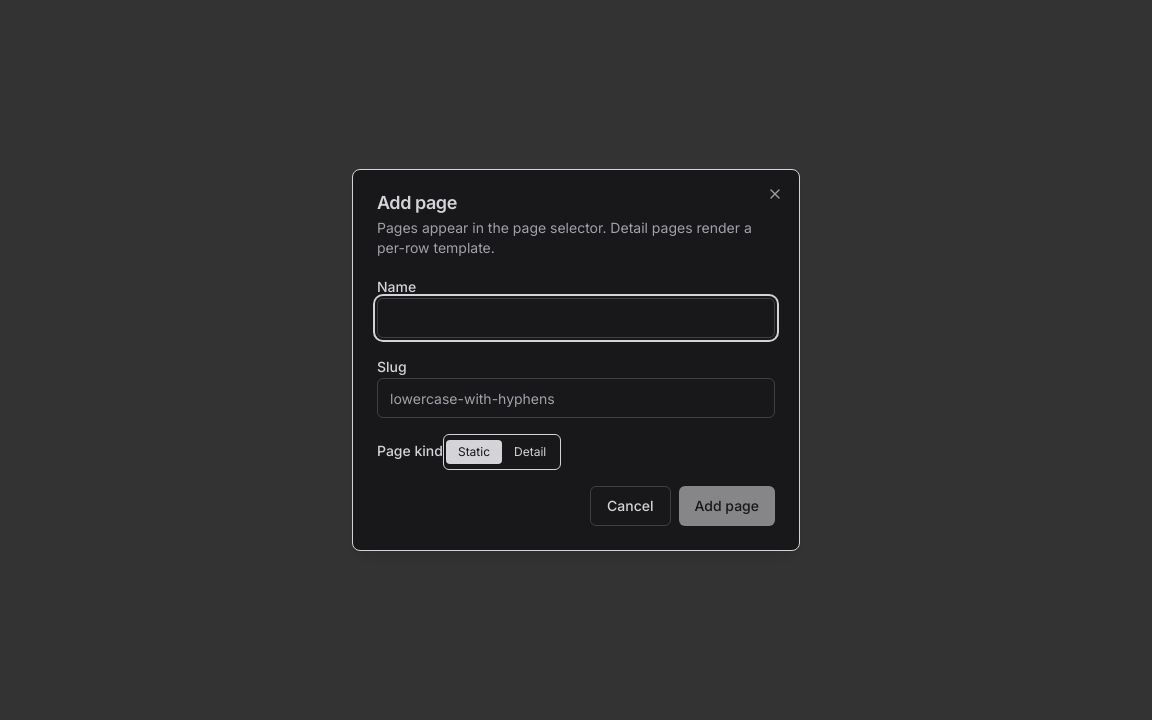
Test case: <AddPageDialog> › allows the U2 same-slug coexistence (static + detail) with no conflict
Click the button with test id "add-page-kind-detail": (530, 452) [502, 440, 558, 464]
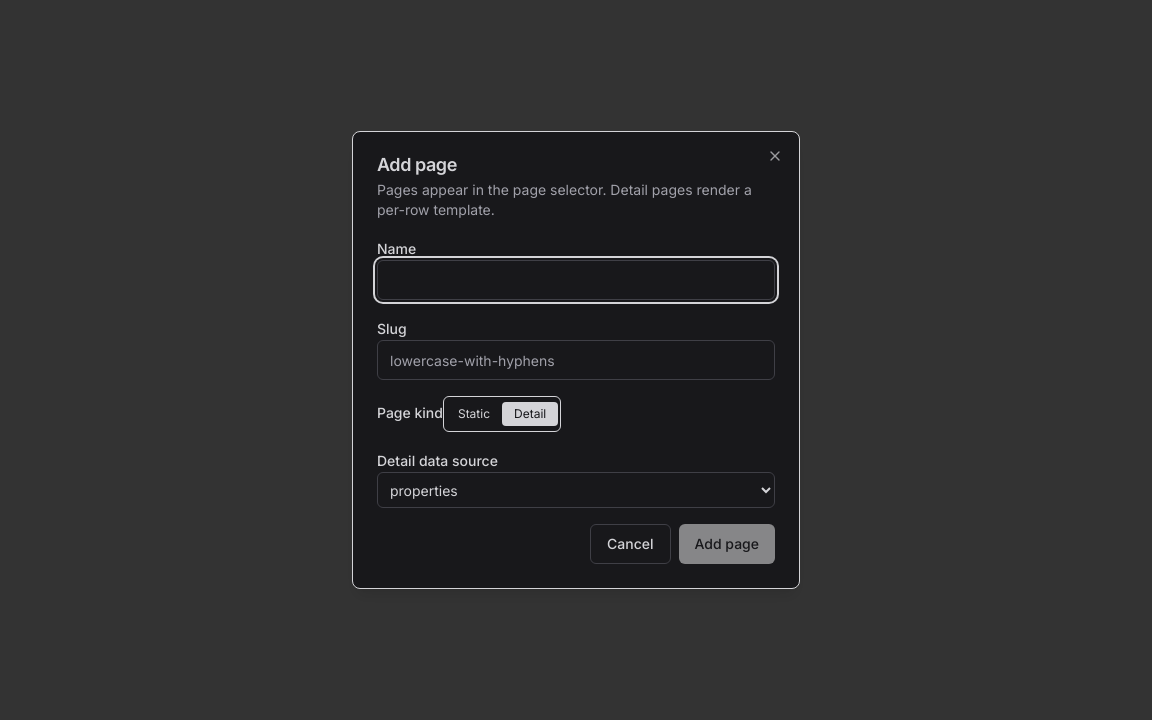
In the field with test id "add-page-name": (576, 280) [377, 260, 775, 300], type "Unit Detail"
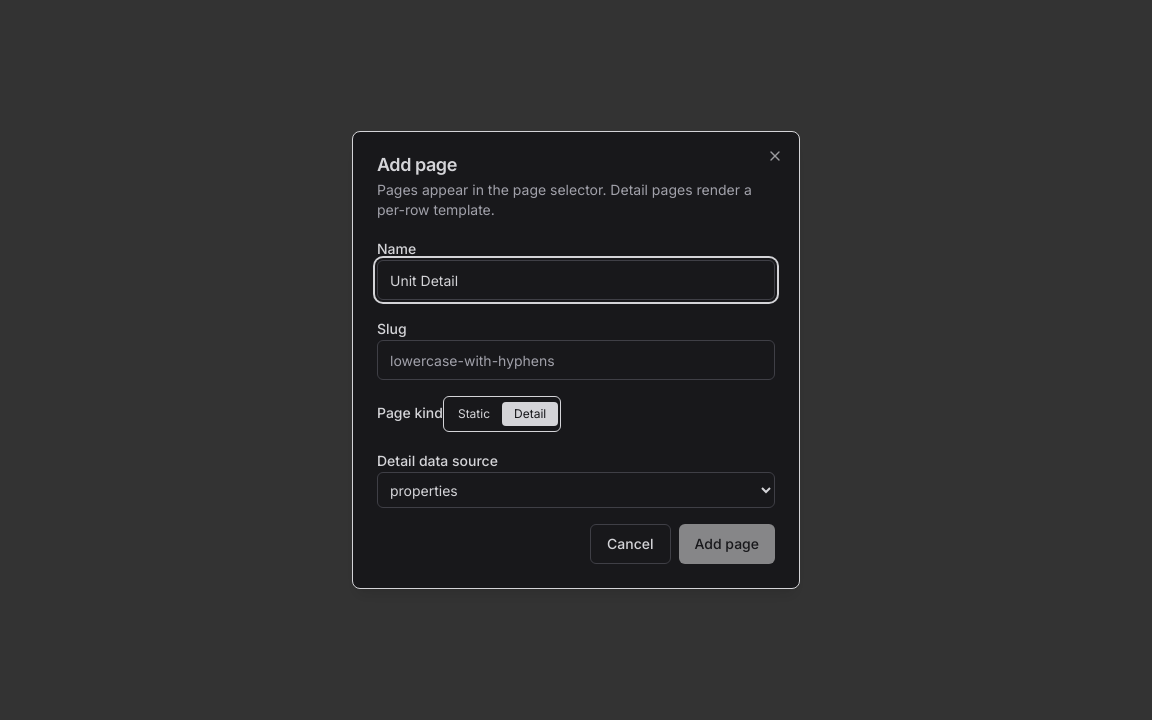
In the field with test id "add-page-slug": (576, 360) [377, 340, 775, 380], type "units"
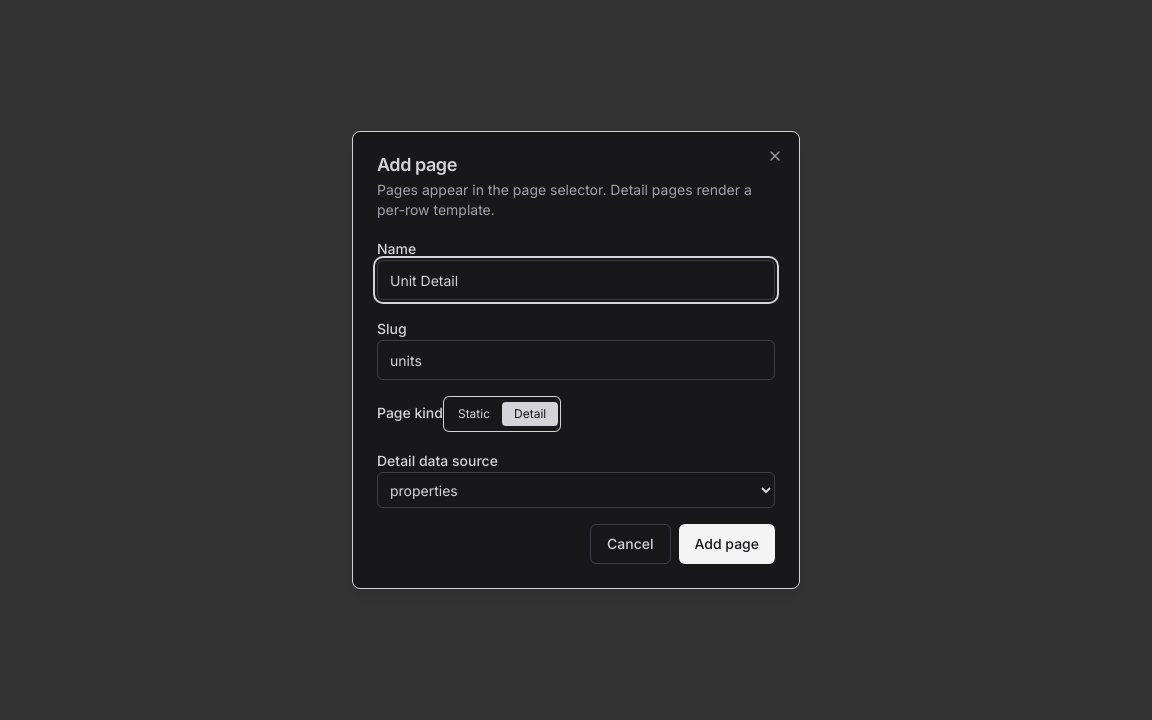
Expected: the button with test id "add-page-submit" is enabled, [678, 524, 775, 564]
